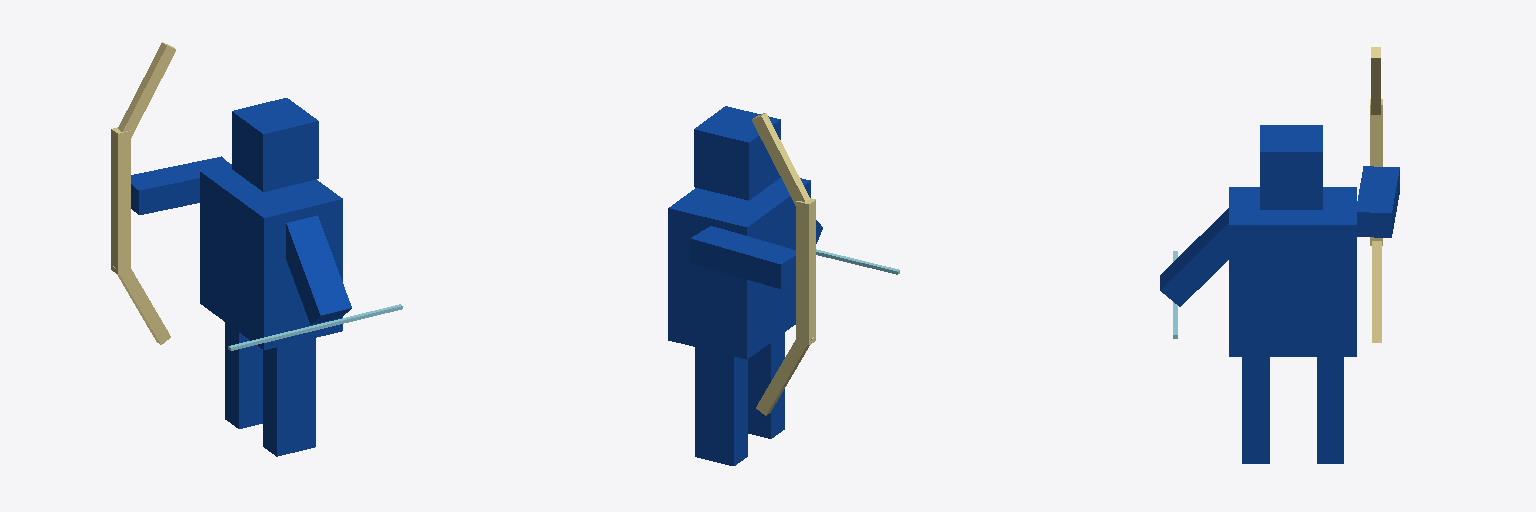
Rendered from BA_Archer_02.obj.
3 views of the same model, side by side, from view 1: azimuth 30°, elevation 25°; view 2: azimuth 150°, elevation 25°; view 3: azimuth 270°, elevation 25° (orthographic).
Visible parts, largest first — view 1: Box001, Box007, Box003, Box008, Box005, Box004, Box006, Box009; view 2: Box001, Box007, Box004, Box008, Box006, Box003; view 3: Box001, Box007, Box005, Box003, Box004, Box006, Box008.
Part boxes in pixels (x1,y1,x2,y2): Box001: (200,164,342,349); Box007: (232,98,318,191); Box003: (263,338,315,456); Box008: (111,42,175,344); Box005: (286,215,351,324); Box004: (225,322,262,428); Box006: (131,156,229,214); Box009: (228,304,402,350); Box001: (668,178,810,359); Box007: (694,106,780,200); Box004: (695,347,747,465); Box008: (752,113,815,415); Box006: (690,226,795,288); Box003: (748,333,784,438); Box001: (1229,187,1356,356); Box007: (1260,125,1322,209); Box005: (1160,208,1228,306); Box003: (1242,357,1269,463); Box004: (1317,357,1343,463); Box006: (1357,166,1399,237); Box008: (1370,47,1382,342).
Size of the model in its own units: 118 by 227 by 131.